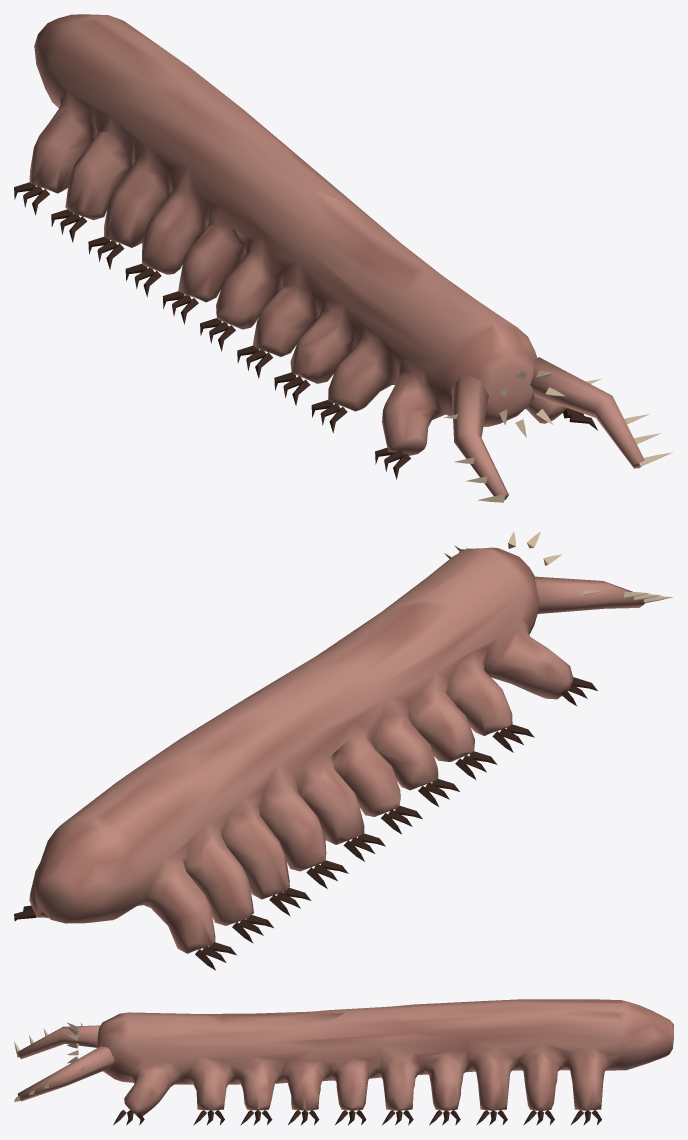
File: Aysheaia.fbx
3 renders of one model, top to bottom at view 1: azimuth 30°, elevation 25°; view 2: azimuth 150°, elevation 25°; view 3: azimuth 270°, elevation 25°, orthographic. The views are drawn at different scales.
Visible parts, largest first — view 1: Aysheaia; view 2: Aysheaia; view 3: Aysheaia.
Part boxes in pixels (x1,y1,x2,y2): Aysheaia: (14,14,672,502); Aysheaia: (14,531,672,970); Aysheaia: (14,999,673,1125).
Bounding box in the file's own units: 0.266 × 0.1834 × 1.19.
